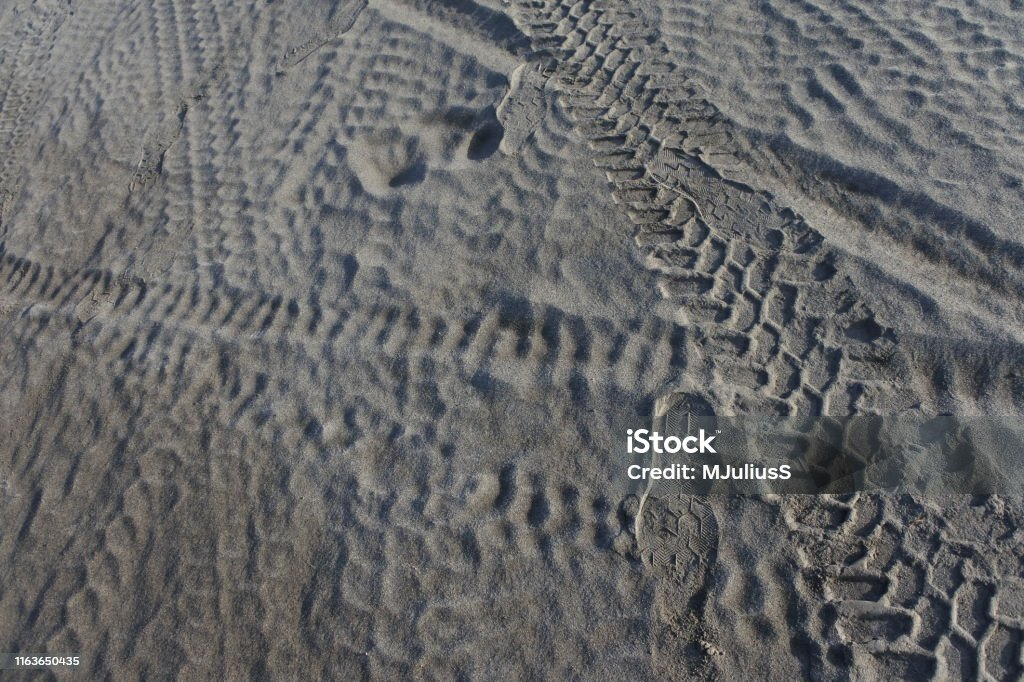vehicle_track: (0, 2, 910, 676), (0, 253, 672, 675), (517, 0, 950, 414), (517, 0, 948, 413), (520, 2, 898, 413), (0, 245, 683, 382), (785, 493, 1023, 679), (0, 0, 70, 219)
